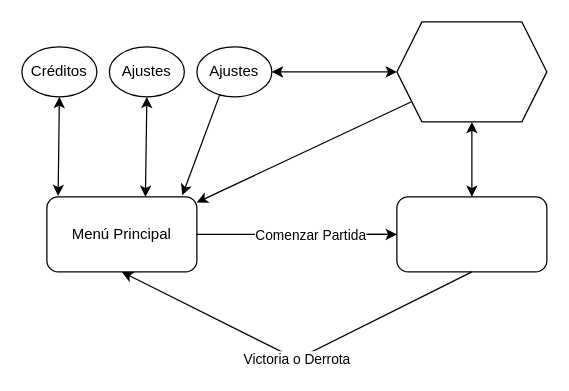
The diagram is 569 pixels wide and 391 high, and some of its shapes have lost their labels. The box of each missing label's shape, as (x1, y1, x2, y2) in pixels:
Menú de Pausa: (396, 21, 547, 122)
Partida: (396, 196, 547, 272)
